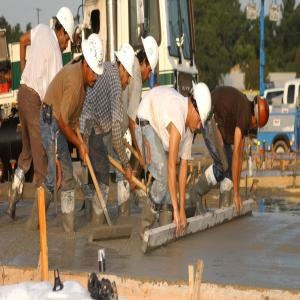red: (253, 95, 270, 134)
white: (82, 34, 105, 87), (189, 82, 212, 135), (55, 7, 75, 53), (140, 37, 160, 81), (118, 42, 136, 87)
